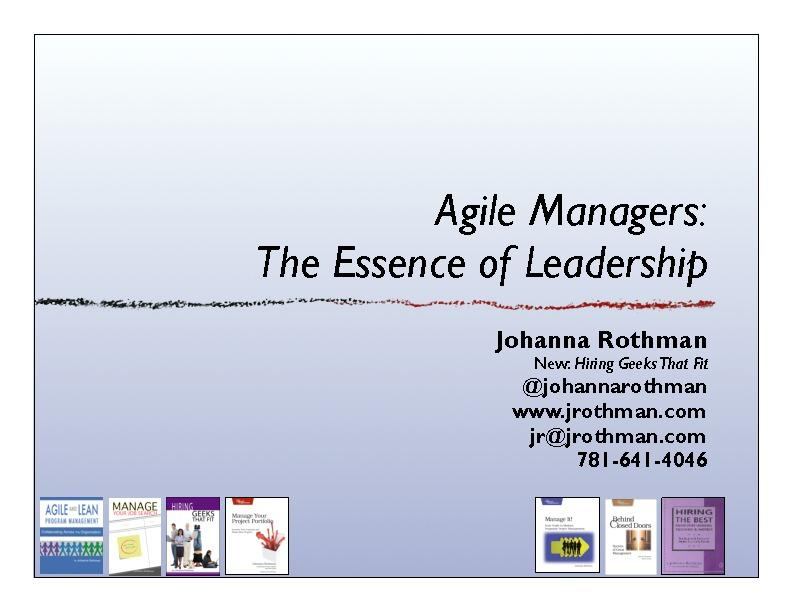paragraph: (433, 316, 737, 481)
title: (238, 169, 731, 289)
